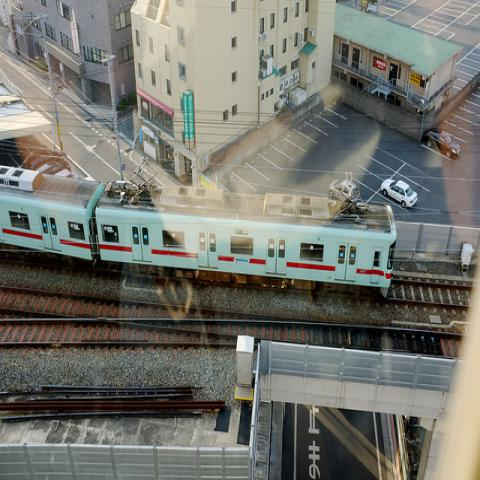car: (381, 177, 418, 209), (425, 126, 460, 158), (328, 179, 358, 197), (53, 167, 80, 180)
